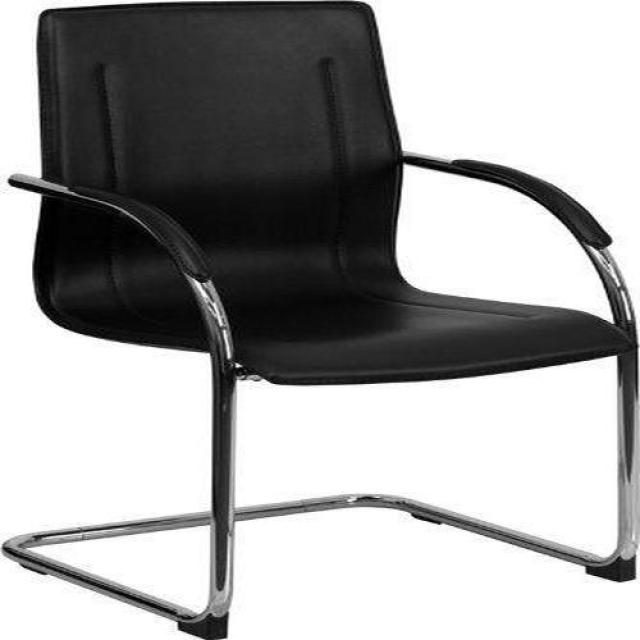chair: (0, 1, 640, 640)
